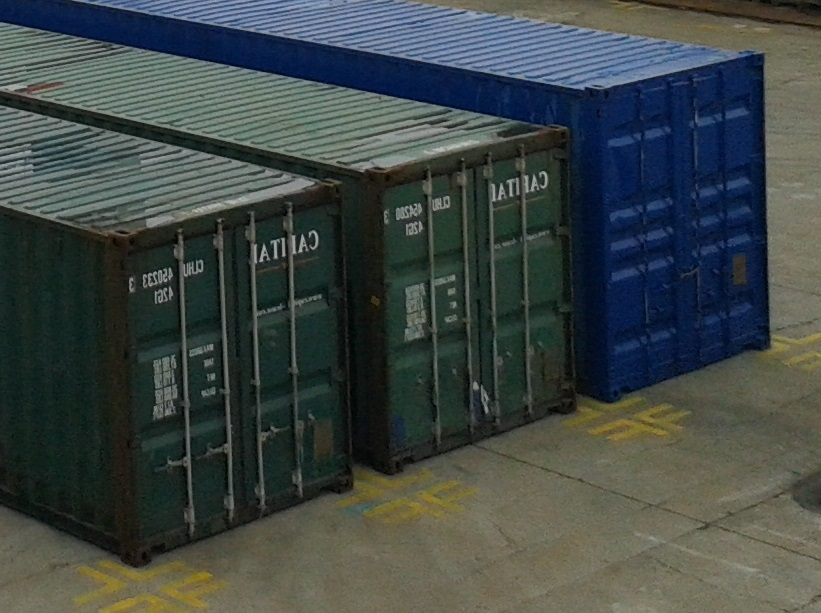container_door: (118, 213, 359, 532), (367, 123, 571, 468), (588, 51, 771, 401)
